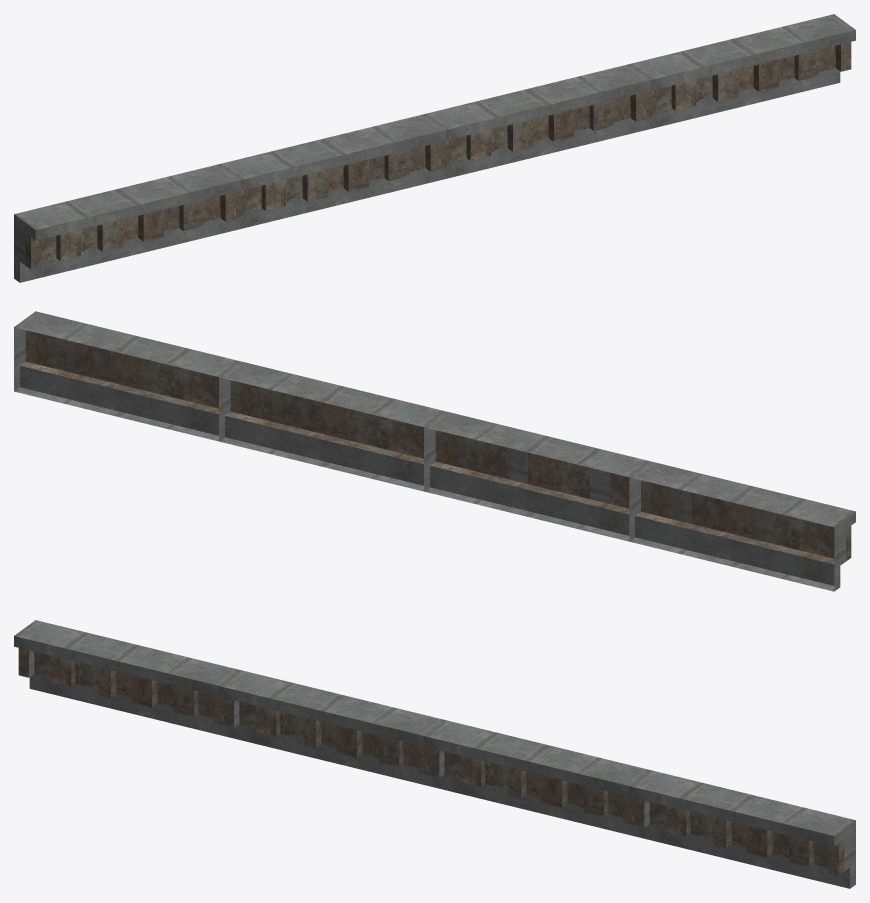
File: wall_cladding_8m_intricate_03.gltf
The picture shows the model from 3 angles, top to bottom: view 1: azimuth 30°, elevation 25°; view 2: azimuth 150°, elevation 25°; view 3: azimuth 330°, elevation 25°; orthographic projection.
Visible parts, largest first — view 1: wall_cladding_8m_intricate_03; view 2: wall_cladding_8m_intricate_03; view 3: wall_cladding_8m_intricate_03.
Boxes of the visible parts, x1,y1,x2,y2 form: wall_cladding_8m_intricate_03: [14, 14, 855, 282]; wall_cladding_8m_intricate_03: [14, 311, 855, 591]; wall_cladding_8m_intricate_03: [14, 620, 855, 888].
Size of the model in its own units: 8 by 0.6 by 0.3667.
Materials: 1 (1 with a texture image).
